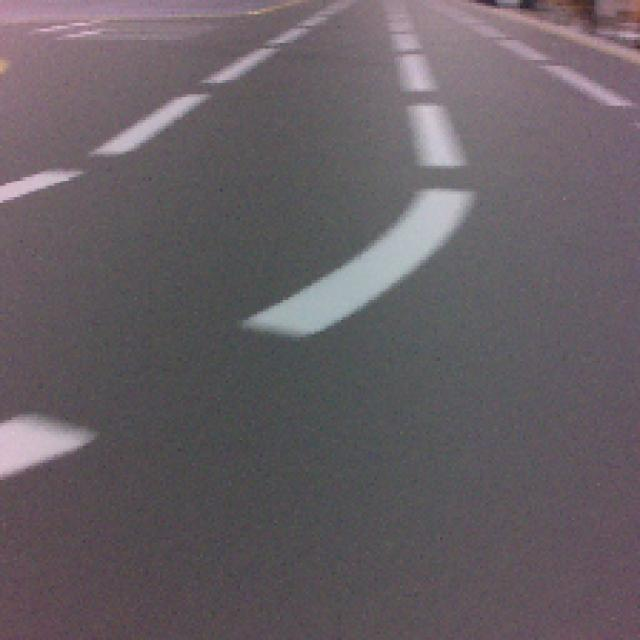Guard rail: (253, 188, 471, 343), (0, 411, 96, 473)
